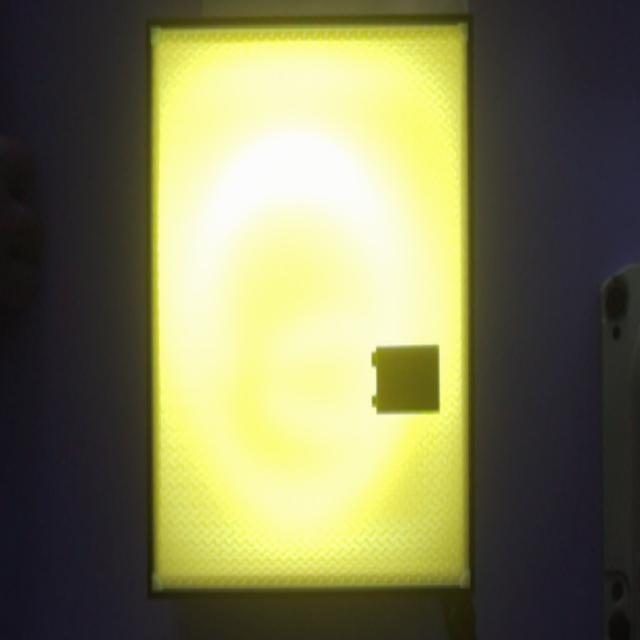bateria: (371, 343, 439, 414)
mesa: (146, 16, 476, 600)
